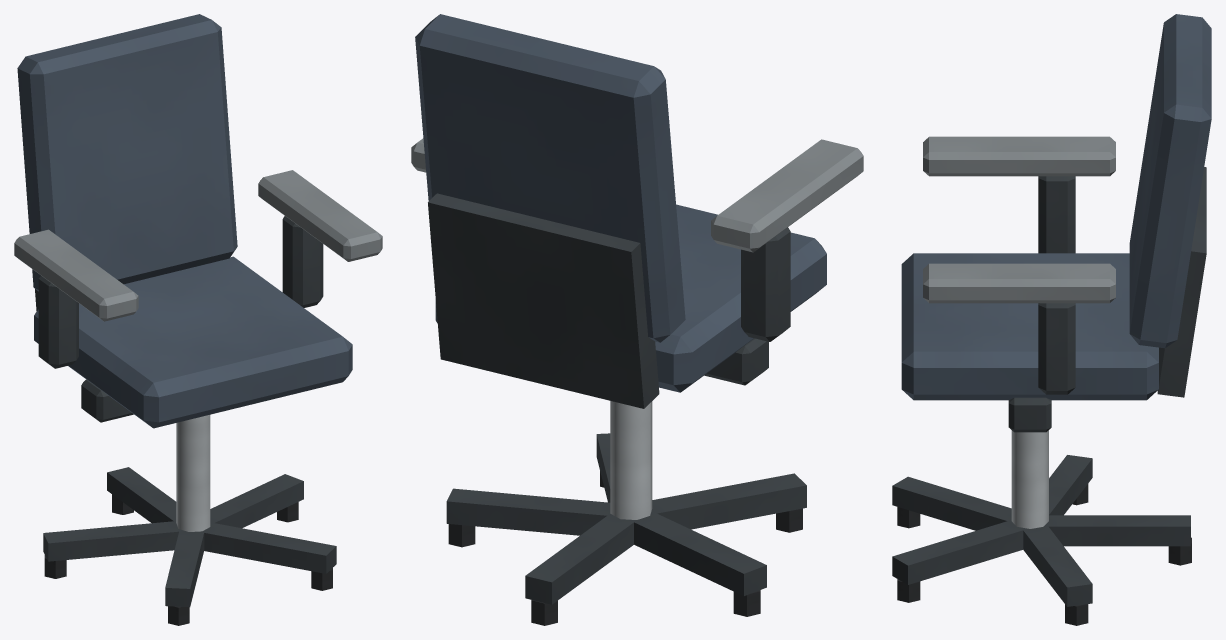
The model's file is chair_ss.fbx.
The picture shows the model from 3 angles, left to right: view 1: azimuth 30°, elevation 25°; view 2: azimuth 150°, elevation 25°; view 3: azimuth 270°, elevation 25°; orthographic projection. The views are drawn at different scales.
Visible parts, largest first — view 1: chair_ss; view 2: chair_ss; view 3: chair_ss.
Part boxes in pixels (box(x1,y1,x2,y2)): chair_ss: box(14, 14, 382, 625); chair_ss: box(411, 14, 863, 625); chair_ss: box(892, 14, 1211, 625).
Size of the model in its own units: 0.65 by 1.03 by 0.5959.
Materials: 1 (1 with a texture image).
